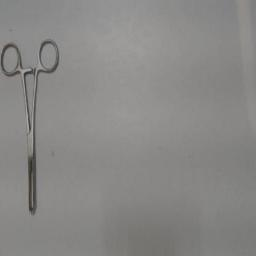Allis Tissue Forceps: (0, 36, 68, 226)
